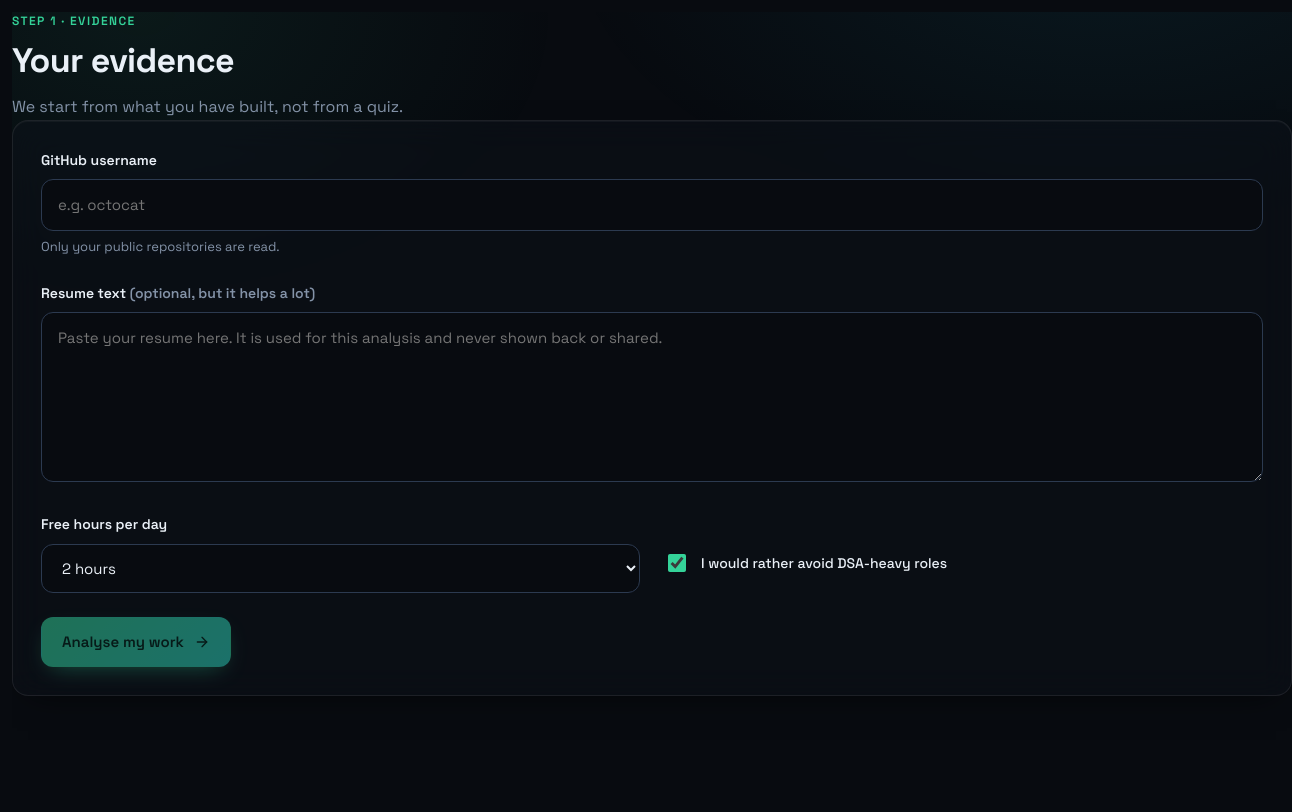
Test case: Profile page › Analyse is disabled until a username is typed
The image size is (1292, 812).
Expected: the button "Analyse my work" is disabled, [41, 616, 231, 666]
Type "  ada  " into the field labelled "GitHub username". click: (652,205)
box: [41, 179, 1263, 231]
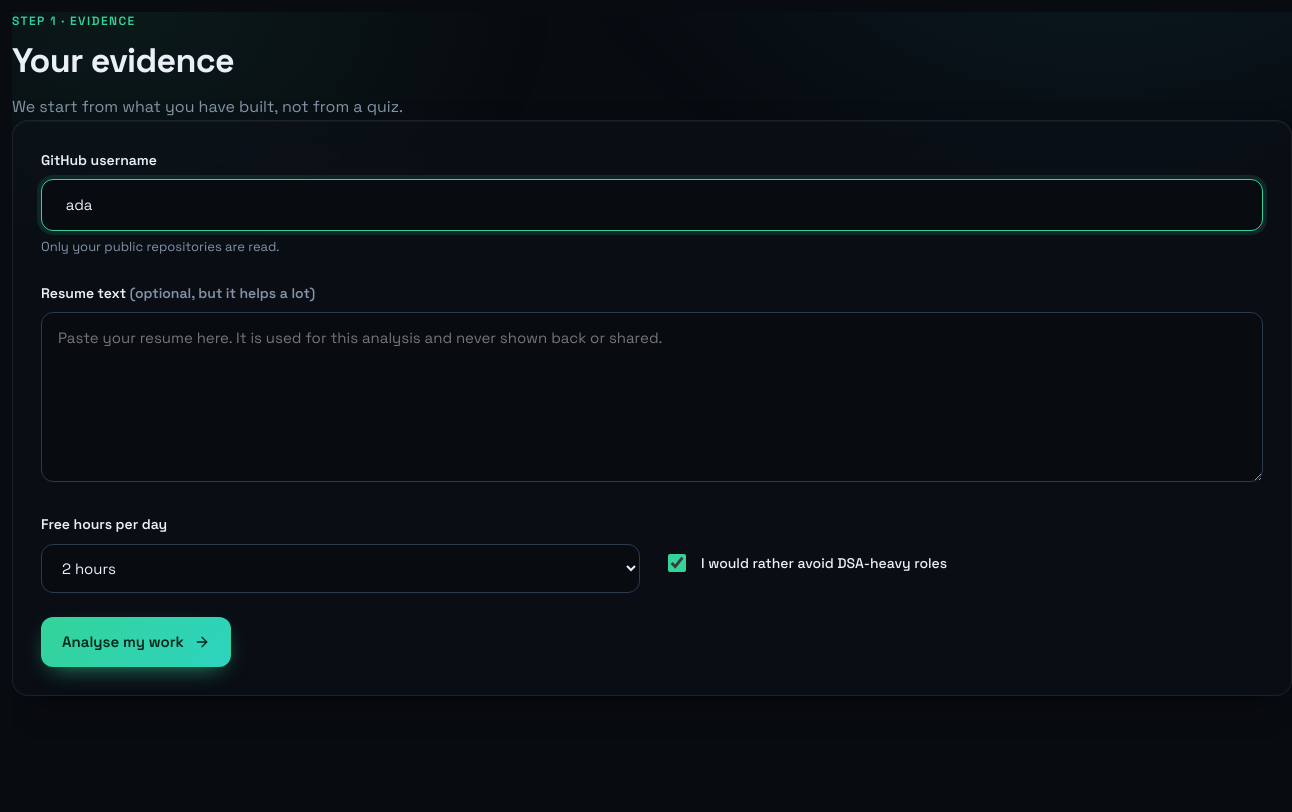
Expected: the button "Analyse my work" is enabled, [41, 616, 231, 666]
